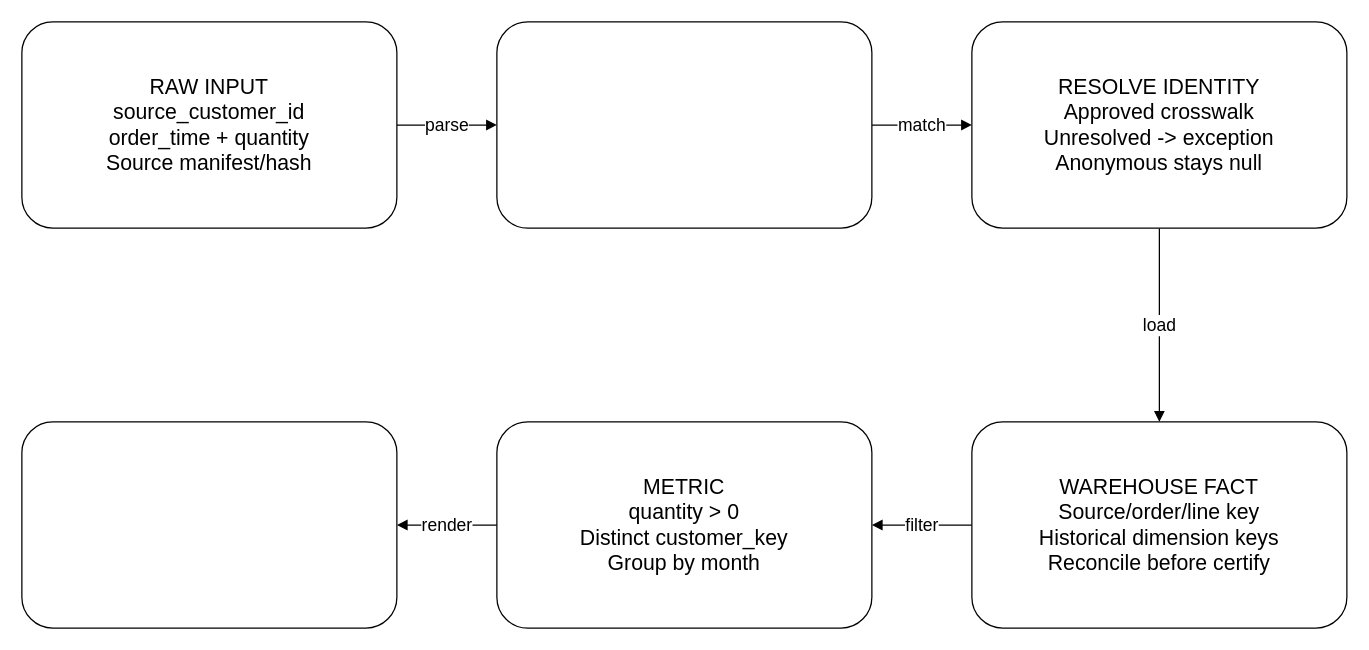
This 1369x650 diagram has some shape labels left out. Each missing label, with the box of its shape:
BOARD VISUAL Month/channel filters Freshness and coverage Do not add distincts: (21, 421, 397, 628)
STANDARDISE Approved date parser Kampala business date Preserve return sign: (496, 21, 872, 228)
